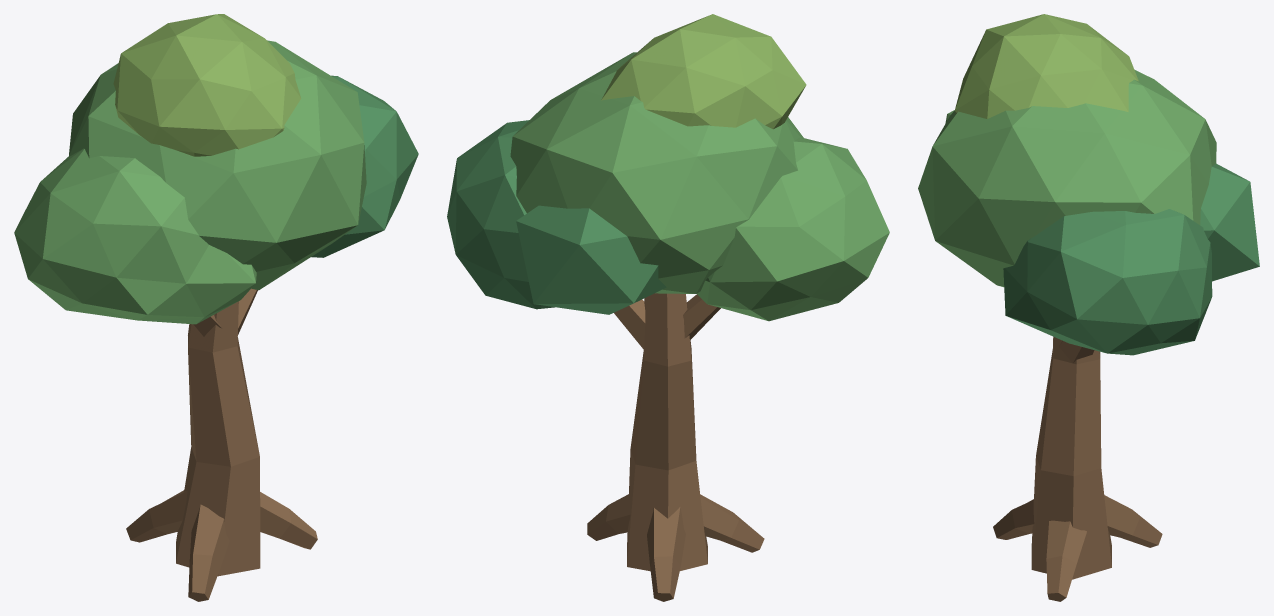
File: Cozy_Tree_Medium_01_MeadowOak.fbx
3 renders of one model, left to right at view 1: azimuth 30°, elevation 25°; view 2: azimuth 150°, elevation 25°; view 3: azimuth 270°, elevation 25°, orthographic. The views are drawn at different scales.
Parts seen in each view (by area): view 1: Cozy_Tree_Medium_01_MeadowOak; view 2: Cozy_Tree_Medium_01_MeadowOak; view 3: Cozy_Tree_Medium_01_MeadowOak.
Part boxes in pixels (x1,y1,x2,y2): Cozy_Tree_Medium_01_MeadowOak: (14, 14, 418, 601); Cozy_Tree_Medium_01_MeadowOak: (447, 14, 889, 601); Cozy_Tree_Medium_01_MeadowOak: (918, 14, 1259, 601).
Bounding box in the file's own units: 2.79 × 3.64 × 2.14.
